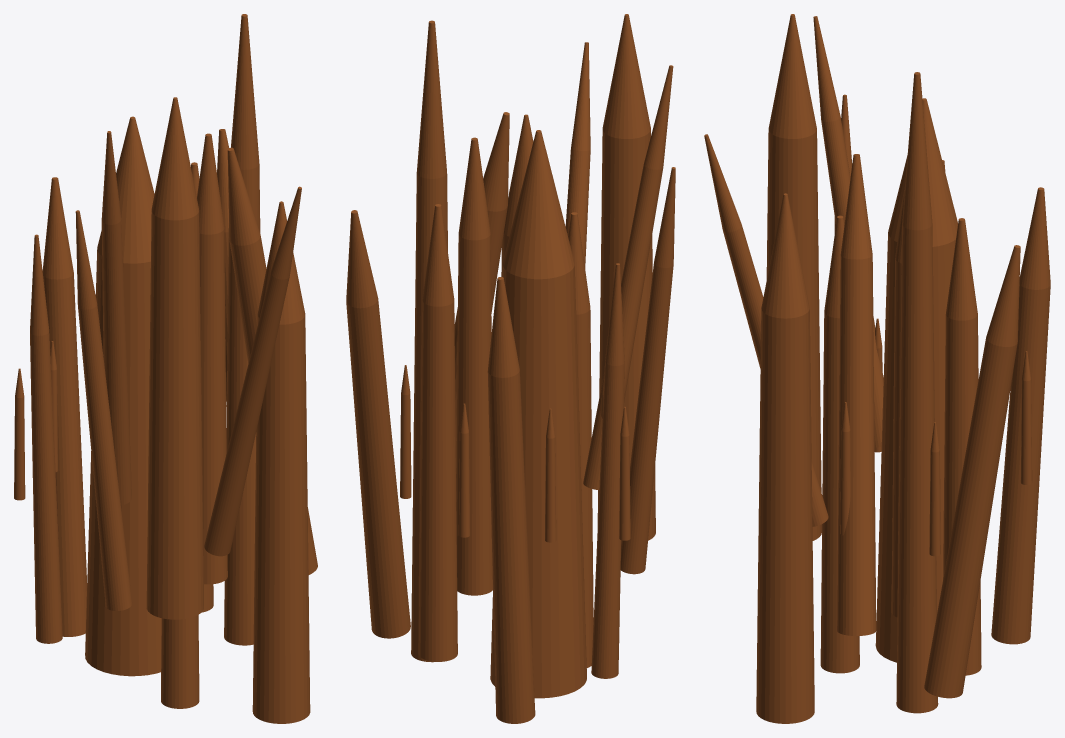
Rendered from pikesColored.fbx.
3 renders of one model, left to right at view 1: azimuth 30°, elevation 25°; view 2: azimuth 150°, elevation 25°; view 3: azimuth 270°, elevation 25°, orthographic.
Visible parts, largest first — view 1: Circle.019; view 2: Circle.019; view 3: Circle.019.
Part boxes in pixels (x1,y1,x2,y2): Circle.019: (14, 14, 317, 723); Circle.019: (346, 14, 675, 723); Circle.019: (704, 14, 1050, 723).
Bounding box in the file's own units: 124 × 296 × 143.
